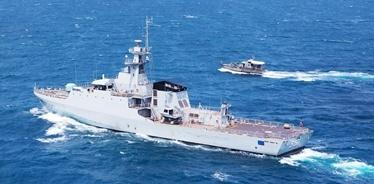otherboat: (222, 57, 268, 74)
warship: (32, 40, 311, 156)
